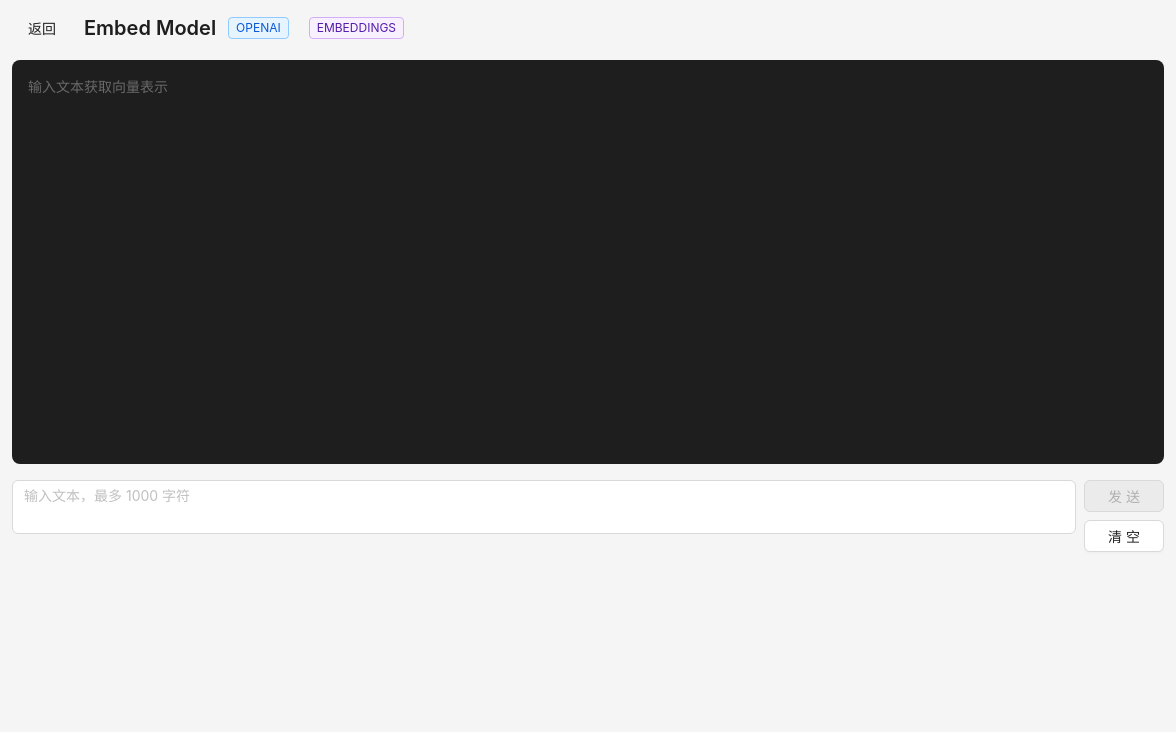
Test: ModelTest EMBEDDINGS 分支 › 返回结果显示应展示向量，维度不超过 100 时无省略号
In the text box with placeholder "输入文本，最多 1000 字符": (544, 507) top-left (12, 480), bottom-right (1076, 534), type "短向量"
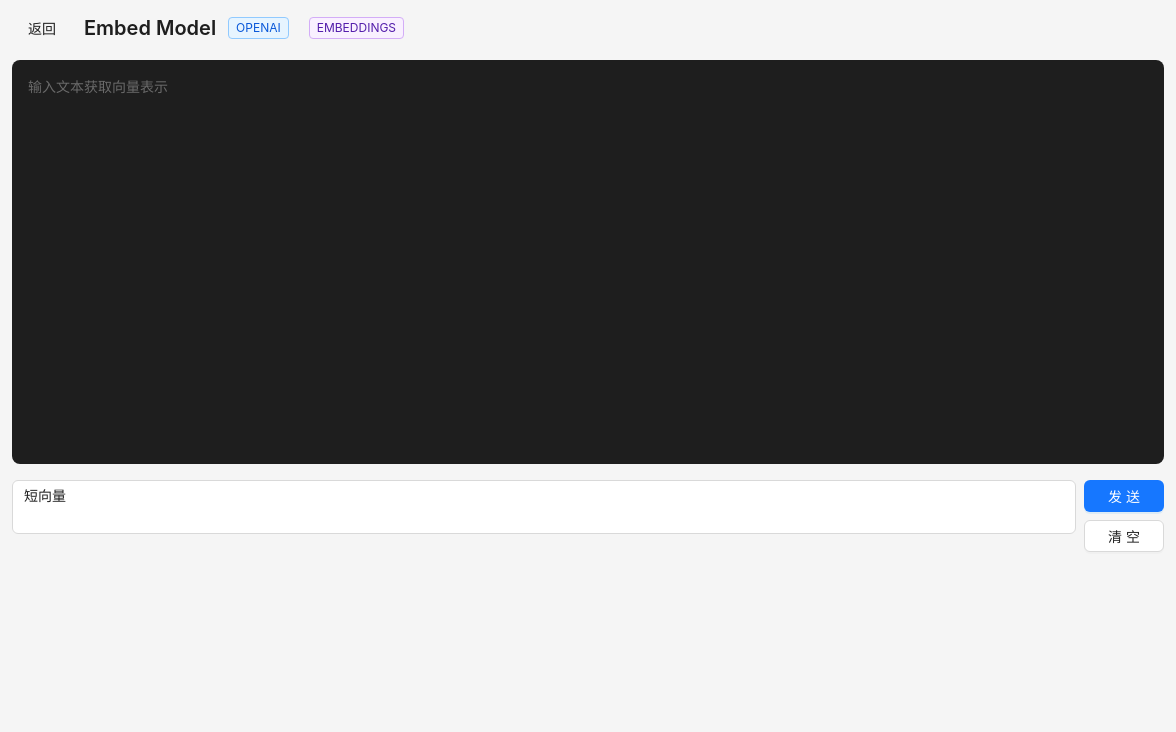
Click the button "发 送": (1124, 496) top-left (1084, 480), bottom-right (1164, 512)
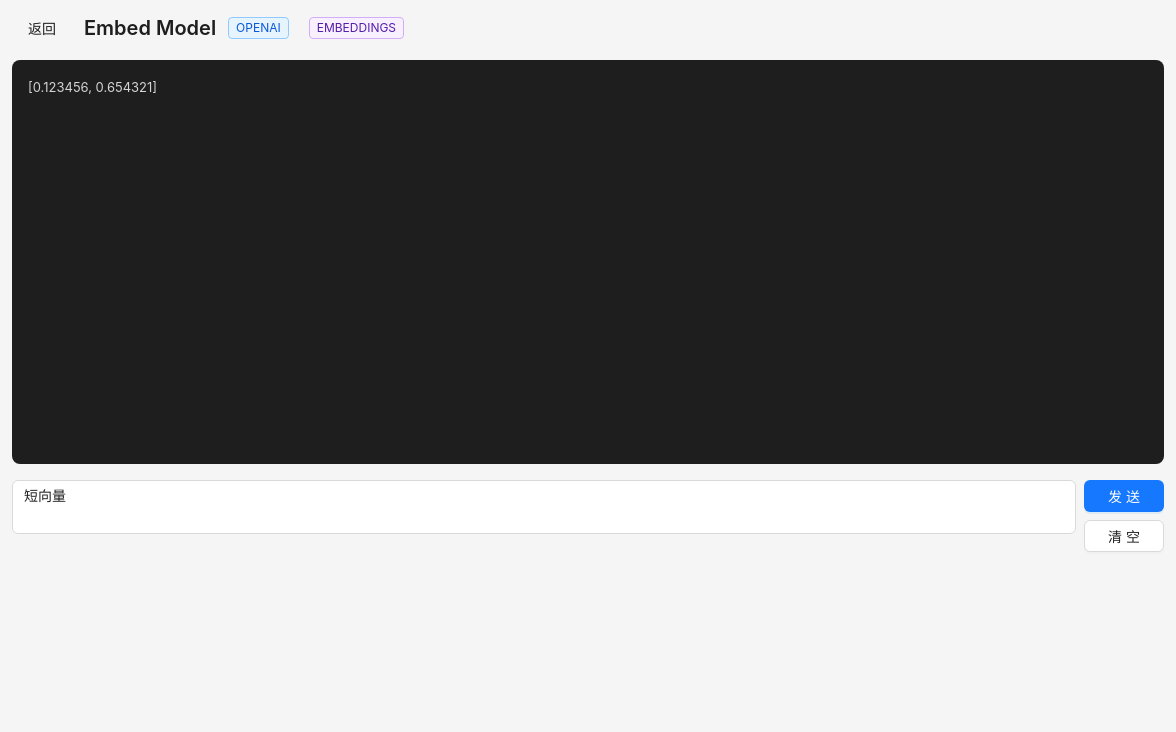
Result: the text "[0.123456, 0.654321]" is shown at top-left (28, 79), bottom-right (157, 95)
